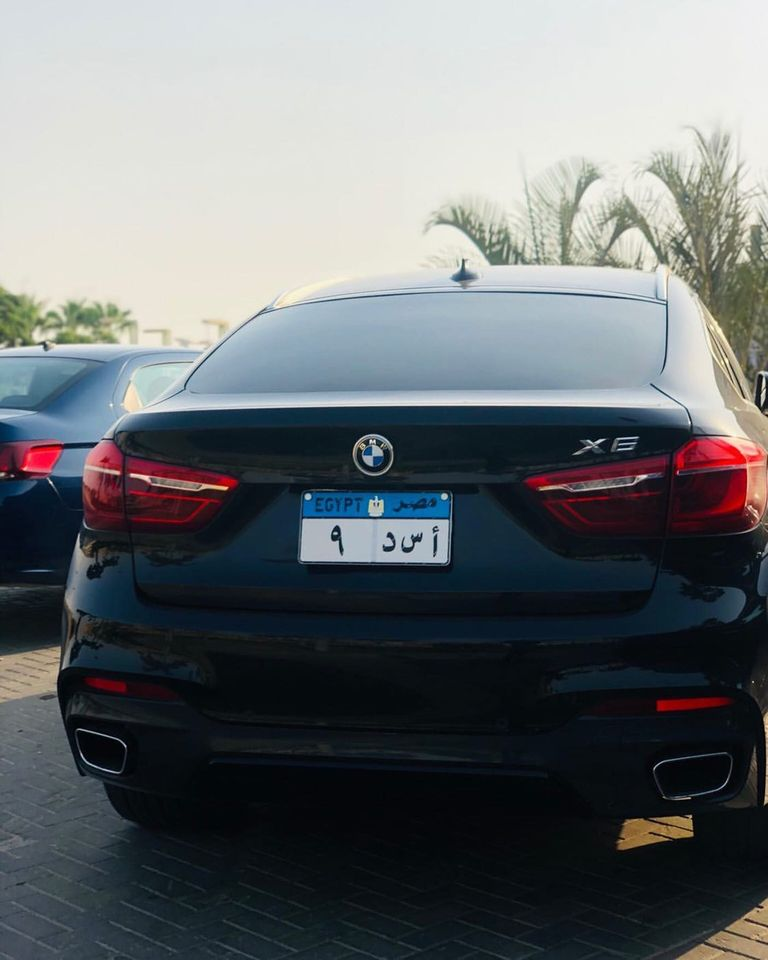carpl: (297, 518, 460, 558)
